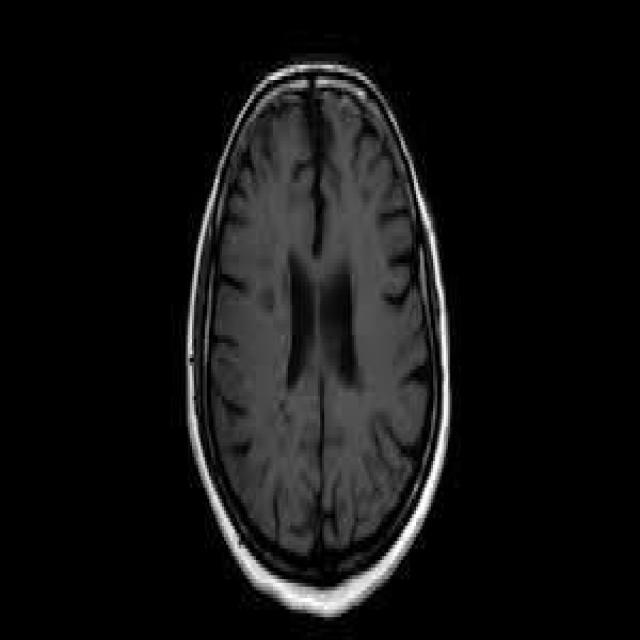notumor: (179, 61, 459, 625)
